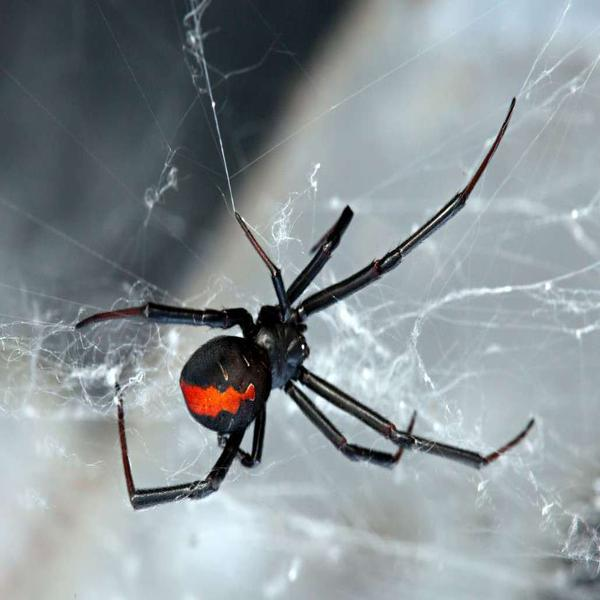Redback_Spider: (75, 97, 535, 509)
